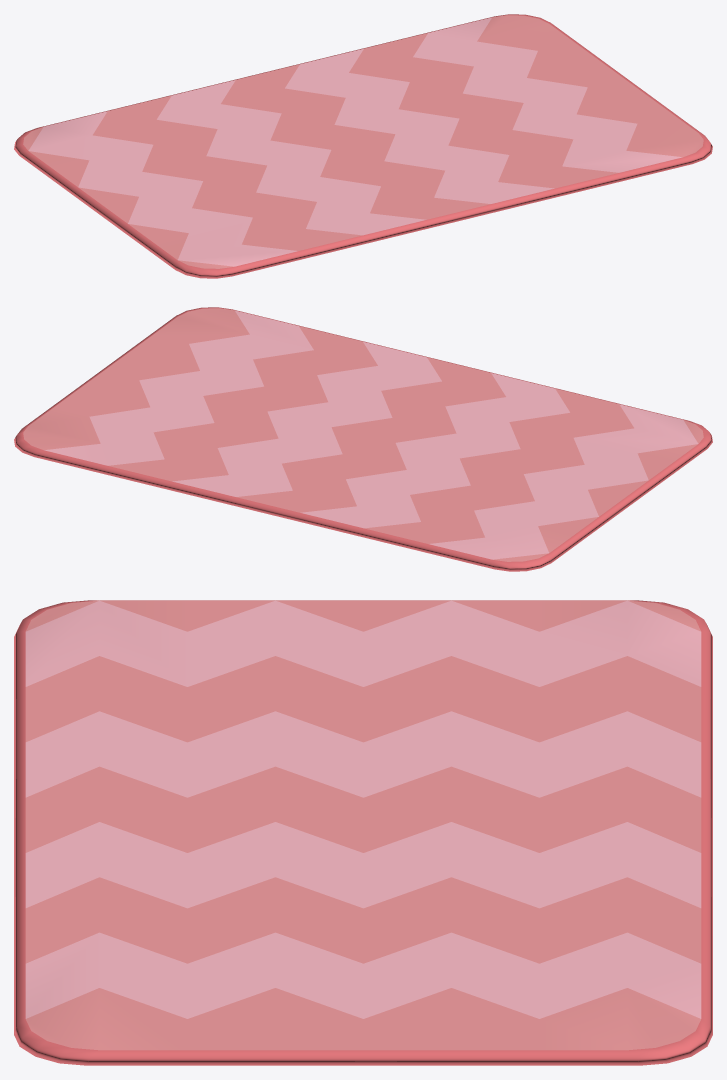
The model's file is Carpet_05.glb.
3 views of the same model, one above another, from view 1: azimuth 30°, elevation 25°; view 2: azimuth 150°, elevation 25°; view 3: azimuth 270°, elevation 25° (orthographic). The views are drawn at different scales.
Visible parts, largest first — view 1: Carpet_05; view 2: Carpet_05; view 3: Carpet_05.
Boxes of the visible parts, x1,y1,x2,y2 form: Carpet_05: [14, 14, 712, 278]; Carpet_05: [14, 307, 712, 571]; Carpet_05: [14, 600, 712, 1065].
Size of the model in its own units: 2.8 by 0.03 by 1.8.
Materials: 1 (1 with a texture image).
